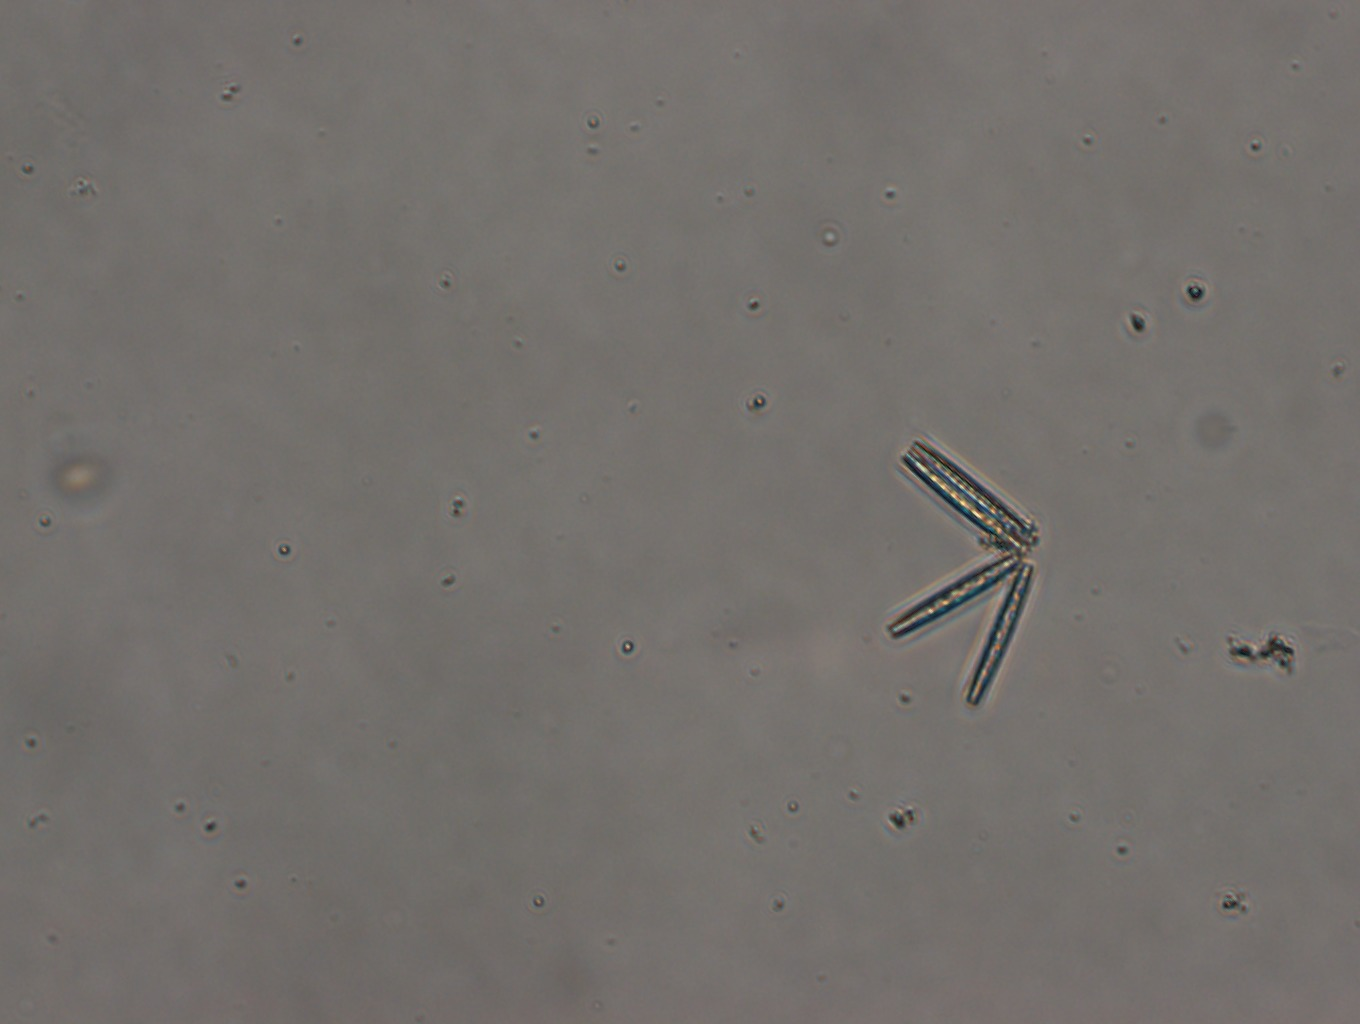thalassionema nitzschioides: (879, 428, 1046, 708)
